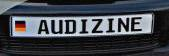A: (37, 19, 49, 35)
D: (64, 19, 77, 34)
E: (131, 16, 143, 32)
I: (80, 18, 88, 35), (106, 18, 115, 33)
N: (117, 17, 130, 32)
U: (50, 19, 63, 35)
Z: (91, 18, 104, 34)
